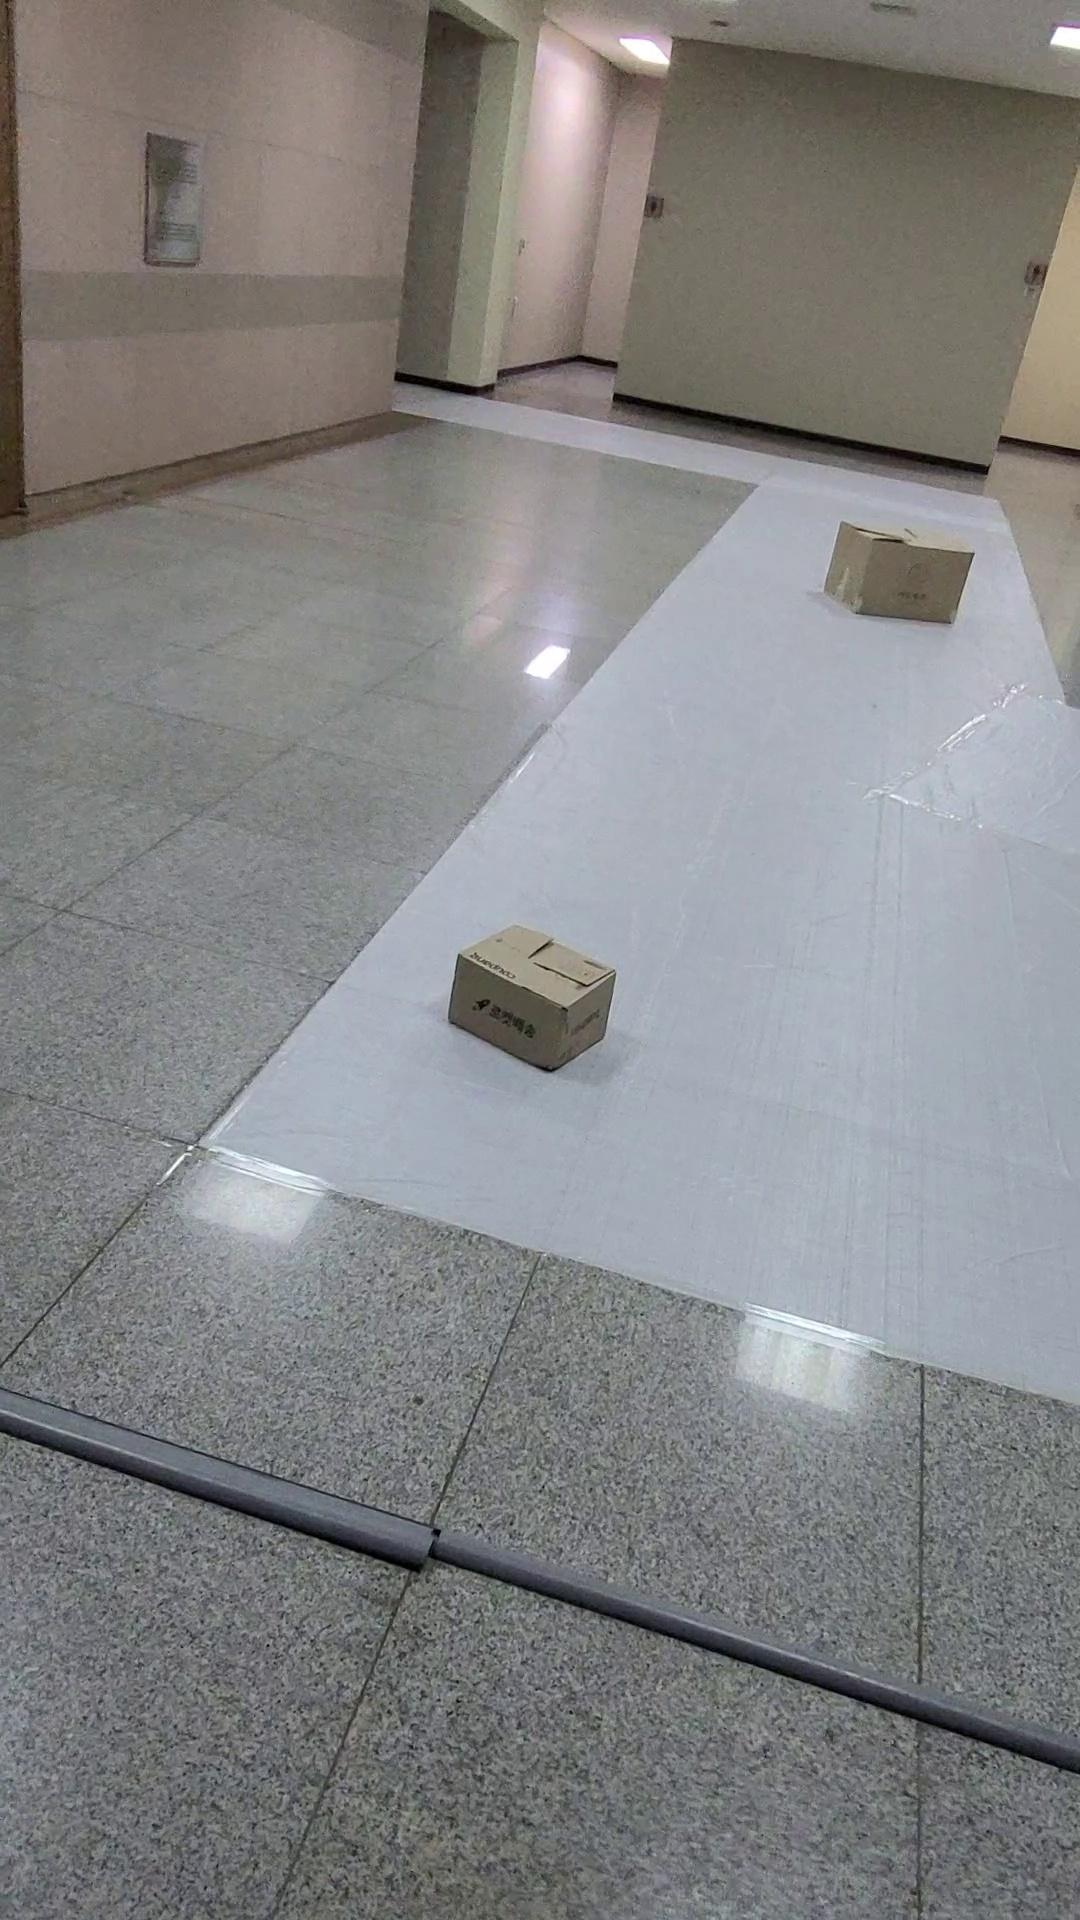Box: (778, 493, 1017, 658), (423, 898, 632, 1083)
